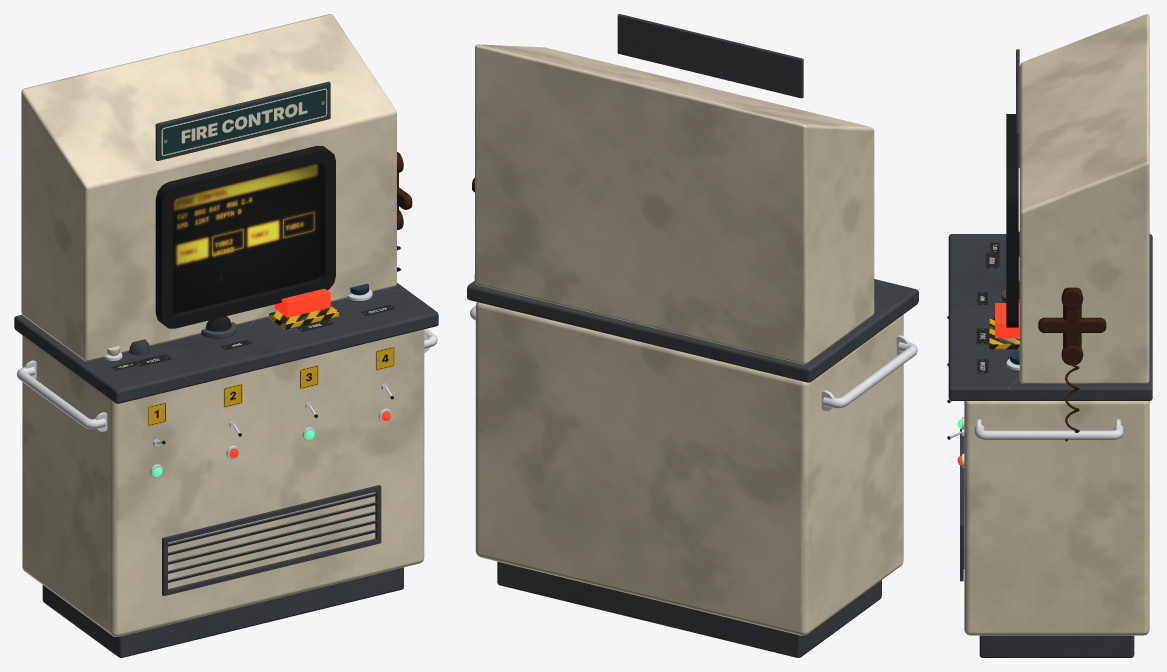
File: FireControl.glb
The picture shows the model from 3 angles, left to right: view 1: azimuth 30°, elevation 25°; view 2: azimuth 150°, elevation 25°; view 3: azimuth 270°, elevation 25°; orthographic projection. The views are drawn at different scales.
Visible parts, largest first — view 1: FireControl_Body, FireControl_FireGuard; view 2: FireControl_Body; view 3: FireControl_Body, FireControl_Handset, FireControl_FireGuard.
Boxes of the visible parts, x1,y1,x2,y2 form: FireControl_Body: (14, 14, 438, 657); FireControl_FireGuard: (274, 288, 330, 317); FireControl_Body: (467, 14, 918, 657); FireControl_Body: (948, 14, 1152, 657); FireControl_Handset: (1038, 287, 1106, 365); FireControl_FireGuard: (995, 303, 1019, 338).
Size of the model in its own units: 1.33 by 1.8 by 0.6648.
Materials: 25 (18 with a texture image).
